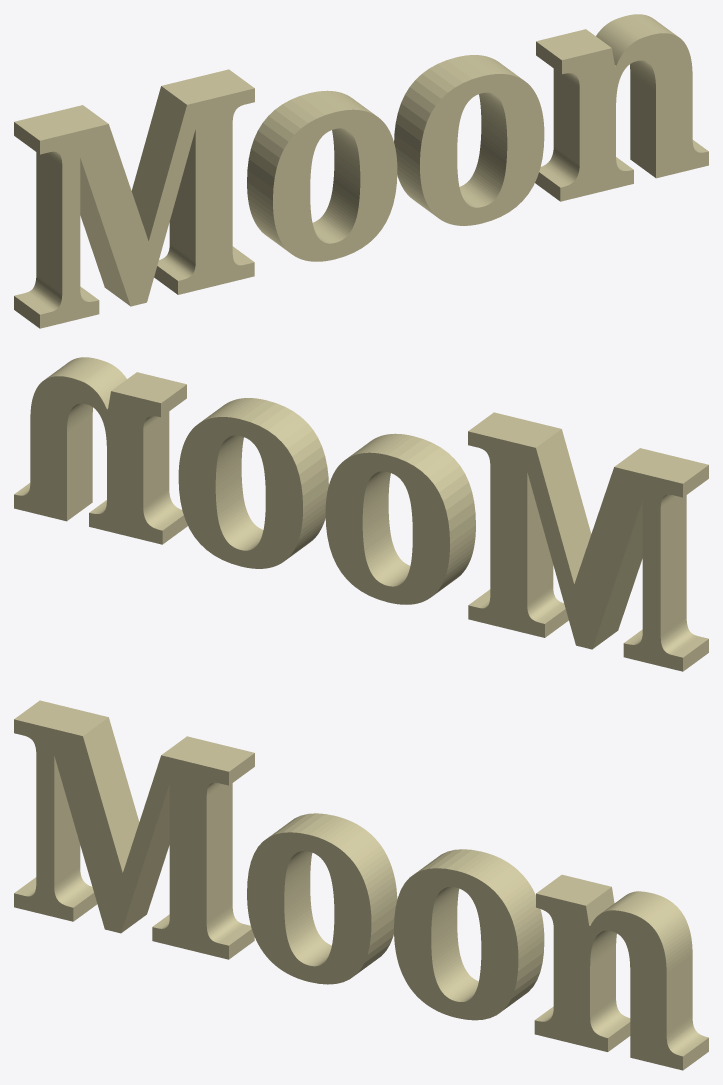
Rendered from Moon.glb.
3 renders of one model, top to bottom at view 1: azimuth 30°, elevation 25°; view 2: azimuth 150°, elevation 25°; view 3: azimuth 330°, elevation 25°, orthographic.
Visible parts, largest first — view 1: Mesh_Mesh_head_geo.001_lambert2SG.001; view 2: Mesh_Mesh_head_geo.001_lambert2SG.001; view 3: Mesh_Mesh_head_geo.001_lambert2SG.001.
Boxes of the visible parts, left/top/right/bottom form: Mesh_Mesh_head_geo.001_lambert2SG.001: left=14, top=14, right=708, bottom=328; Mesh_Mesh_head_geo.001_lambert2SG.001: left=14, top=357, right=708, bottom=671; Mesh_Mesh_head_geo.001_lambert2SG.001: left=14, top=700, right=708, bottom=1070.
Bounding box in the file's own units: 59.6 × 16.23 × 4.
